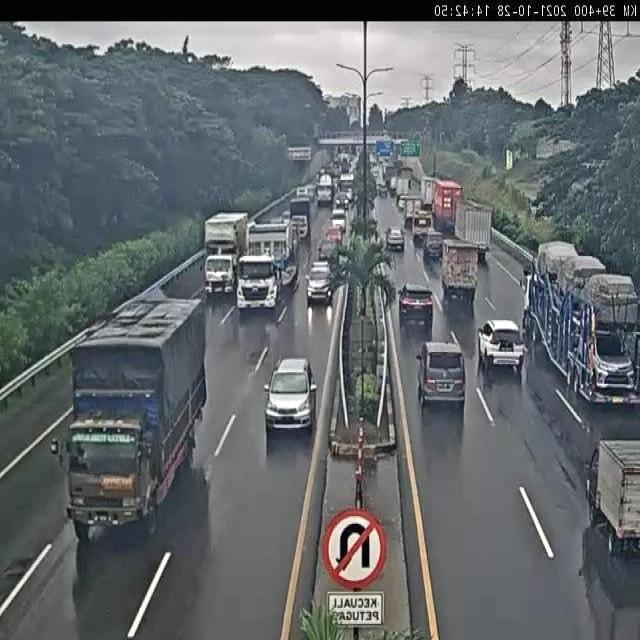Car: (262, 355, 317, 435), (414, 339, 467, 409), (396, 284, 435, 328)
Truck: (59, 295, 209, 540), (519, 238, 640, 406), (237, 218, 297, 313), (453, 200, 493, 256), (442, 238, 477, 301)
